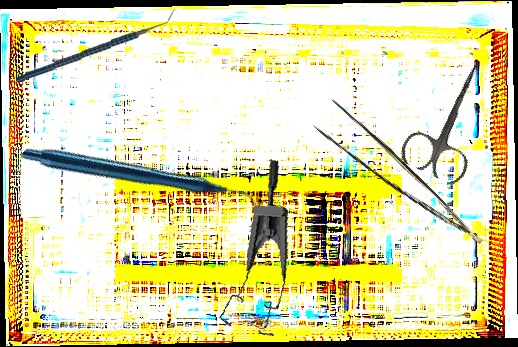Chopper: (13, 9, 180, 82)
Handpiece: (19, 57, 260, 302)
Iris Scissors: (395, 49, 510, 188)
Speculum: (196, 158, 308, 345)
Tissue Forceps: (307, 92, 484, 269)
